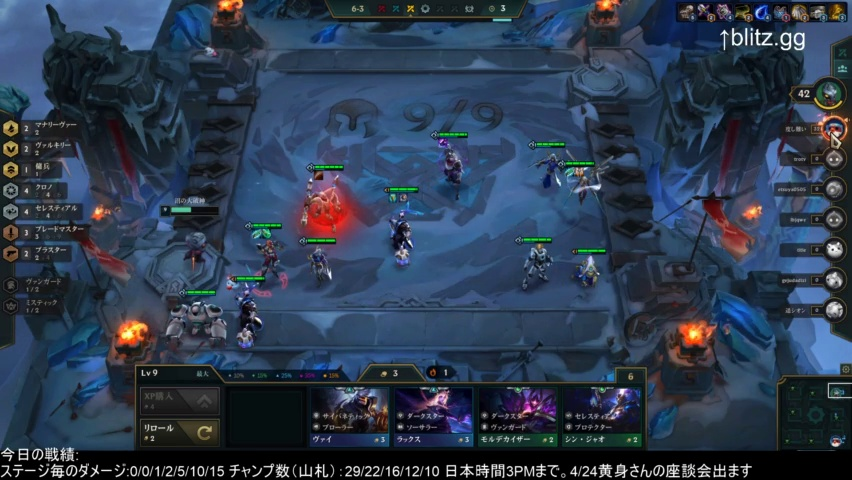blitzcrank*2: (164, 282, 228, 357)
ezreal*2: (517, 231, 557, 298)
missfortune*2: gunblade,shojin: (240, 211, 291, 297)
thresh: (220, 274, 277, 360)
thresh:chalice, celestial: (374, 187, 430, 272)
wukong*2:dragonsclaw: (298, 159, 350, 243)
